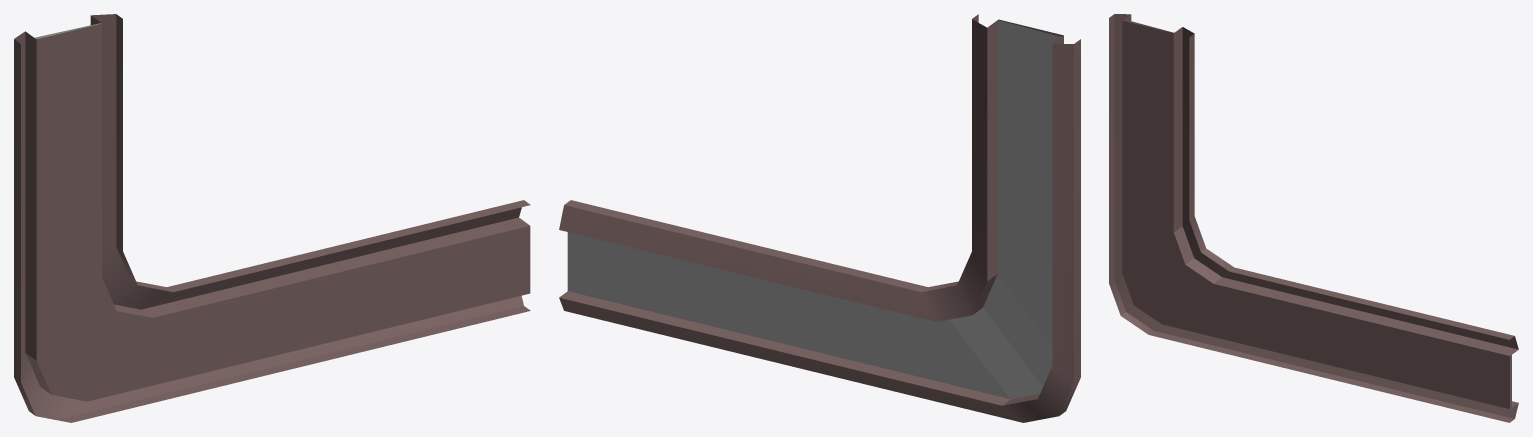
The model's file is ligne_technologique_angle.fbx.
3 views of the same model, side by side, from view 1: azimuth 30°, elevation 25°; view 2: azimuth 150°, elevation 25°; view 3: azimuth 330°, elevation 25° (orthographic). The views are drawn at different scales.
Visible parts, largest first — view 1: angle; view 2: angle; view 3: angle.
Part boxes in pixels (<box>): angle: <box>14,14,530,422</box>; angle: <box>559,14,1080,422</box>; angle: <box>1109,14,1518,422</box>.
Size of the model in its own units: 166 by 122 by 6.71.
